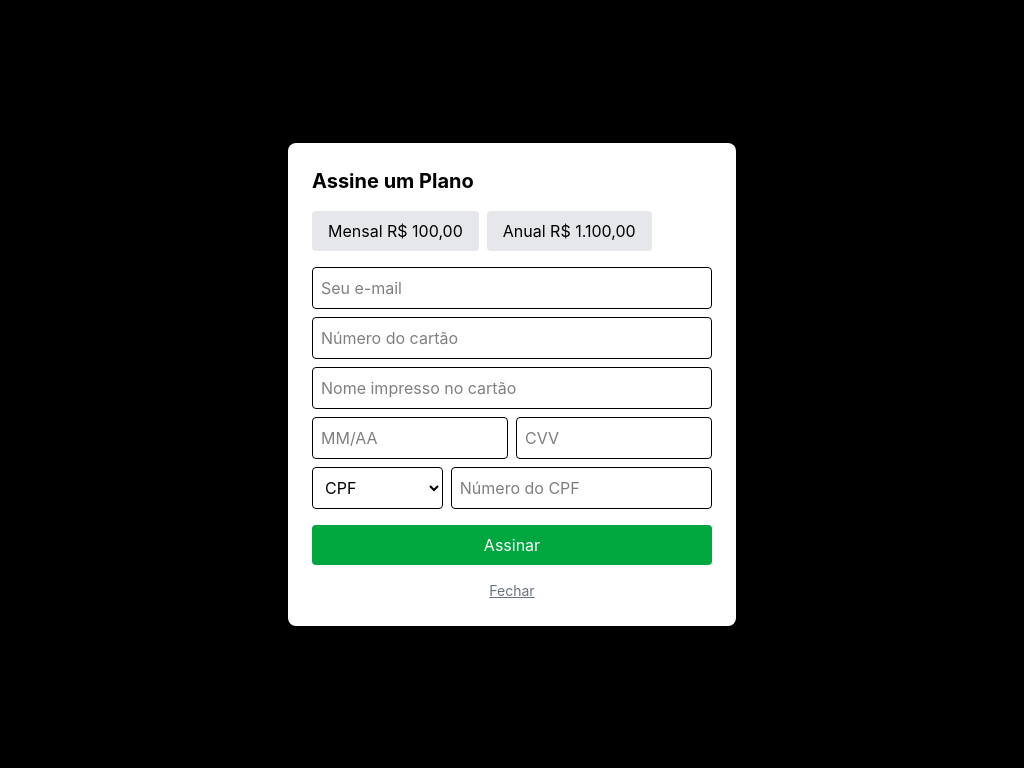
Test: SubscriptionModal › exibe planos e valida campos obrigatórios
Check: the heading "Assine um Plano" is shown, box [312,168,474,192]
Click the button "Mensal R$ 100,00": (395,230) [312,210,479,250]
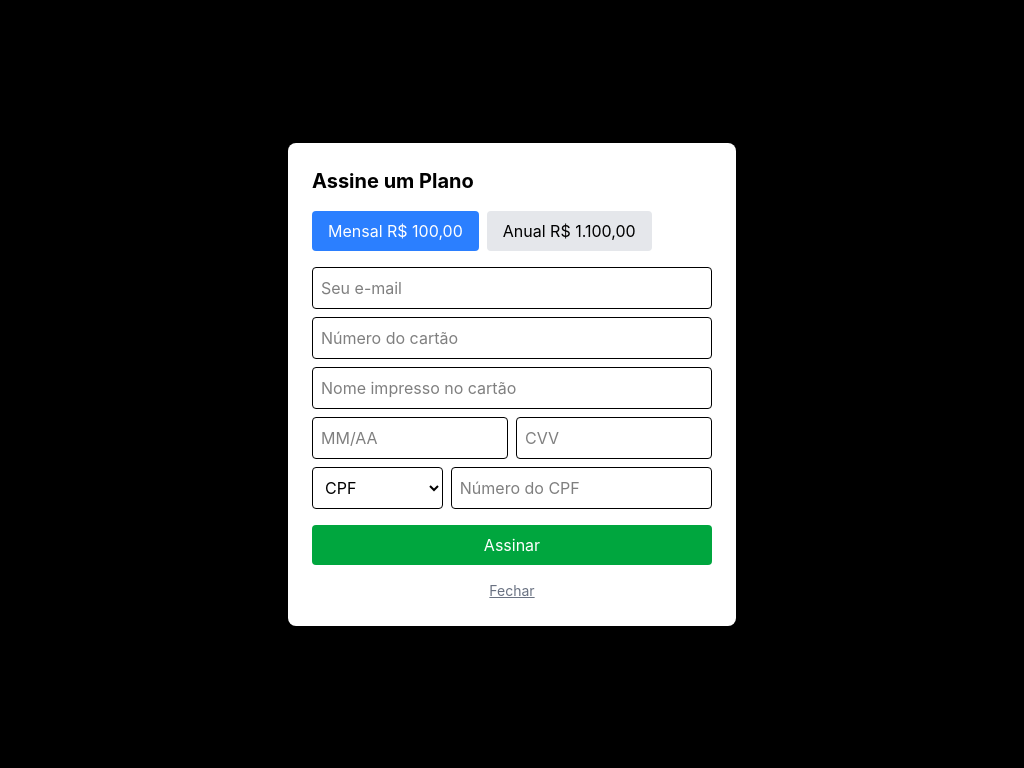
In the field with placeholder "Seu e-mail": (512,288) [312,266,712,308], type "user@email.com"
In the field with placeholder "Número do cartão": (512,338) [312,316,712,358], type "4111111111111111"
In the field with placeholder "Nome impresso no cartão": (512,388) [312,366,712,408], type "Test User"
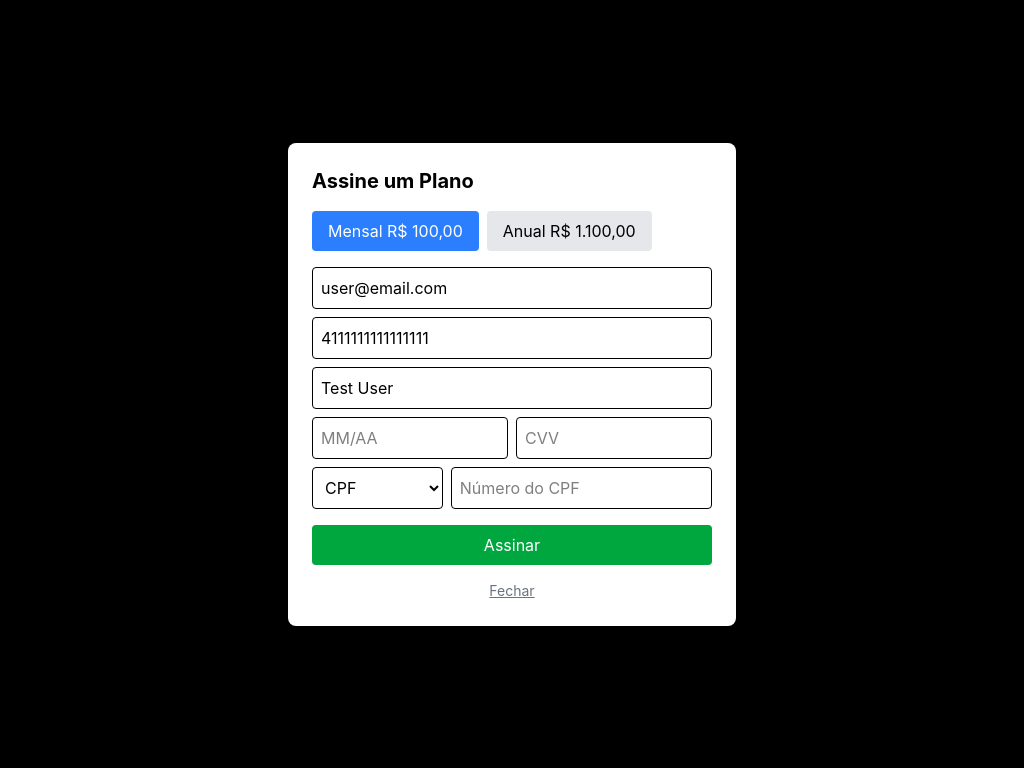
In the field with placeholder "MM/AA": (410,438) [312,416,508,458], type "12/30"
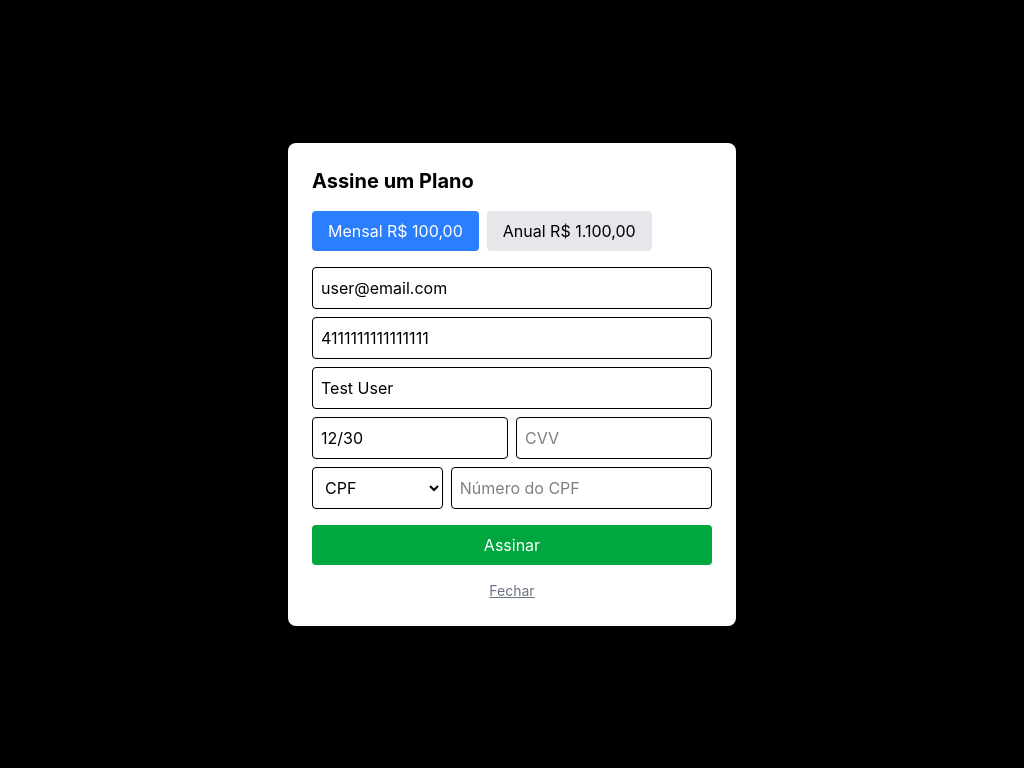
In the field with placeholder "CVV": (614,438) [516,416,712,458], type "123"
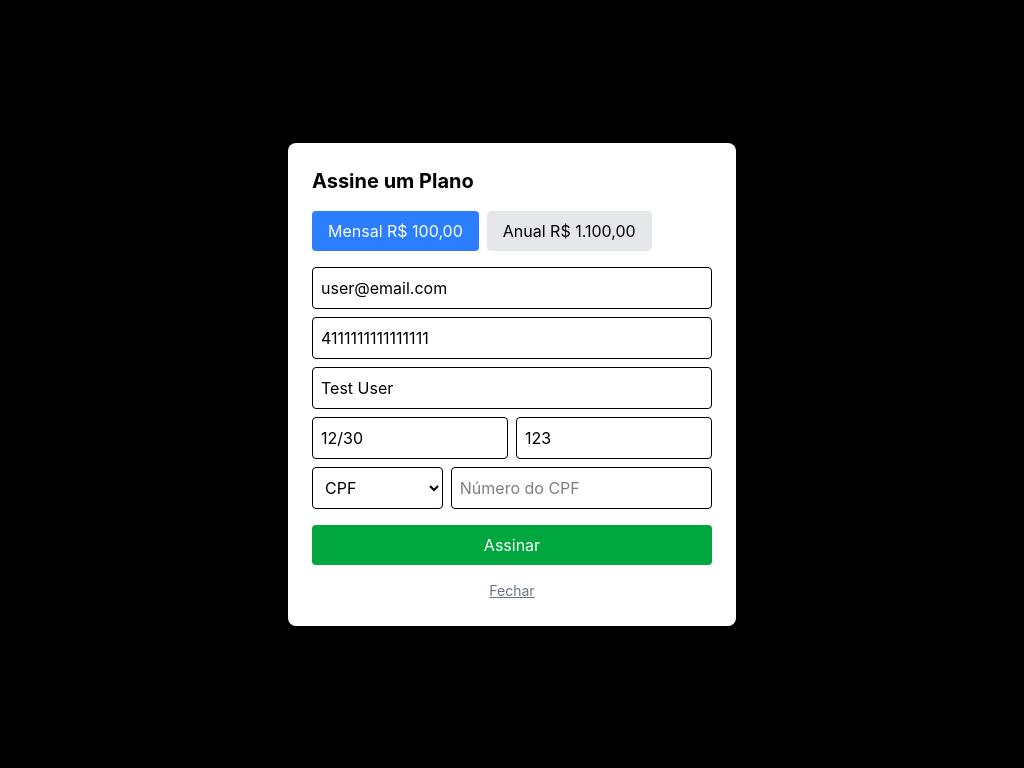
In the field with placeholder "Número do CPF": (581,488) [451,466,712,508], type "123.456.789-09"
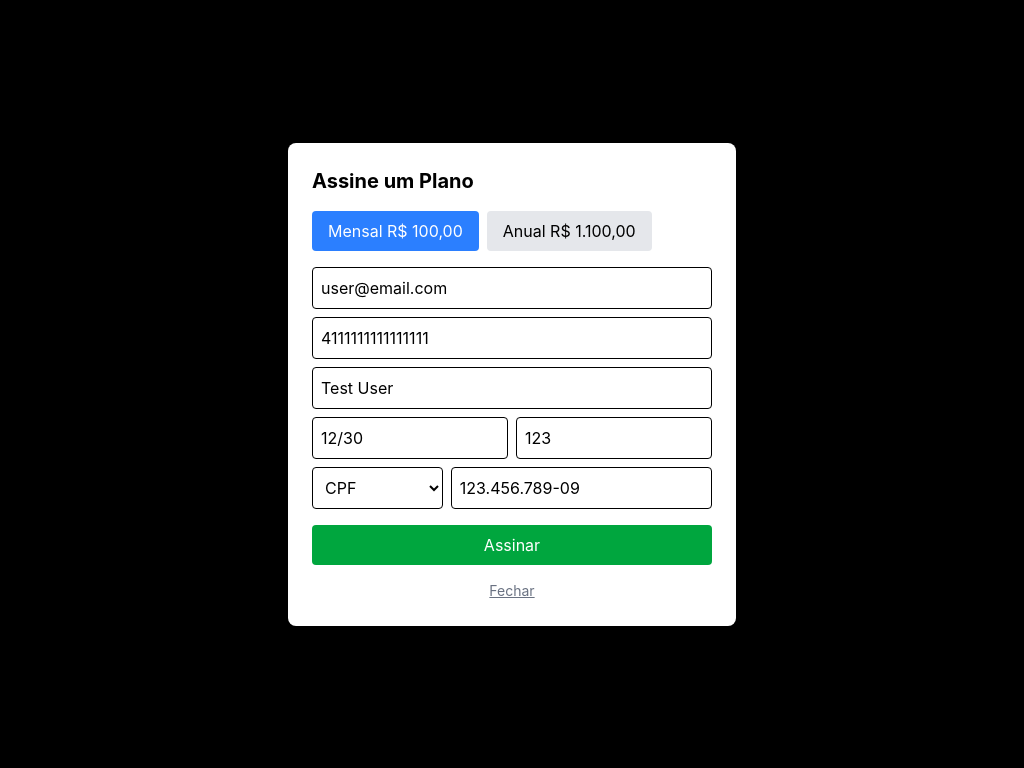
Click the button "Assinar": (512,544) [312,524,712,564]
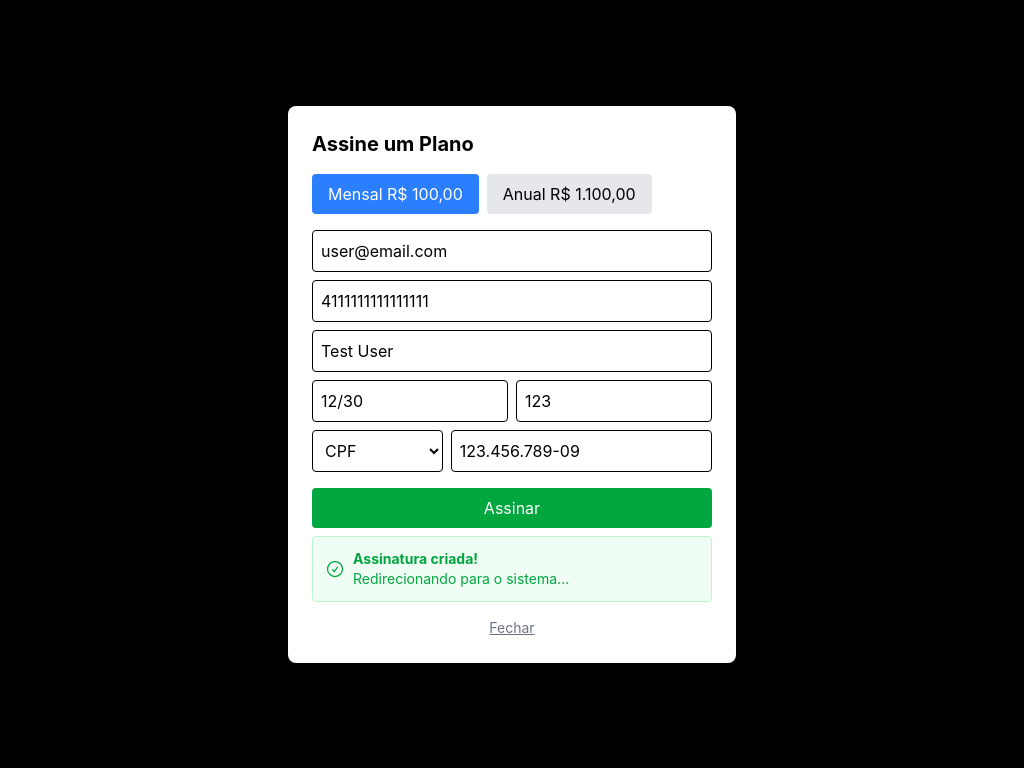
Check: the text "Assinatura criada!" is shown, box [353,550,478,566]
